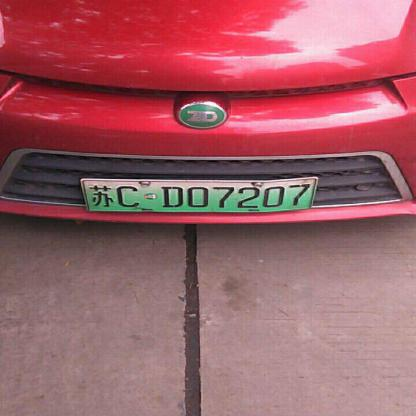lp: (82, 178, 316, 210)
